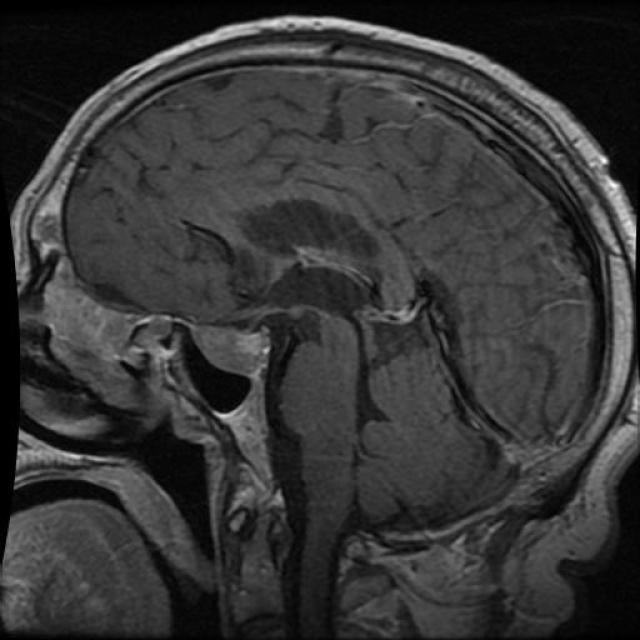pituitary: (182, 303, 278, 392)
